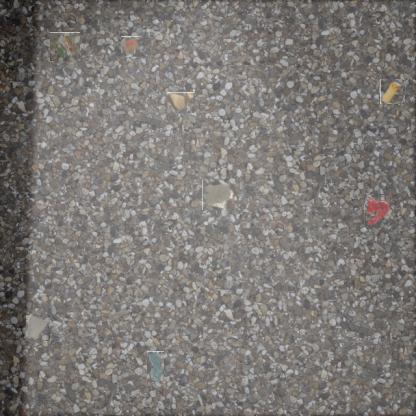dirty: (202, 180, 235, 210), (51, 32, 80, 62), (26, 315, 51, 341), (380, 79, 404, 104), (167, 92, 195, 113), (121, 36, 142, 57)
liquid: (364, 194, 390, 226), (146, 351, 164, 382)
